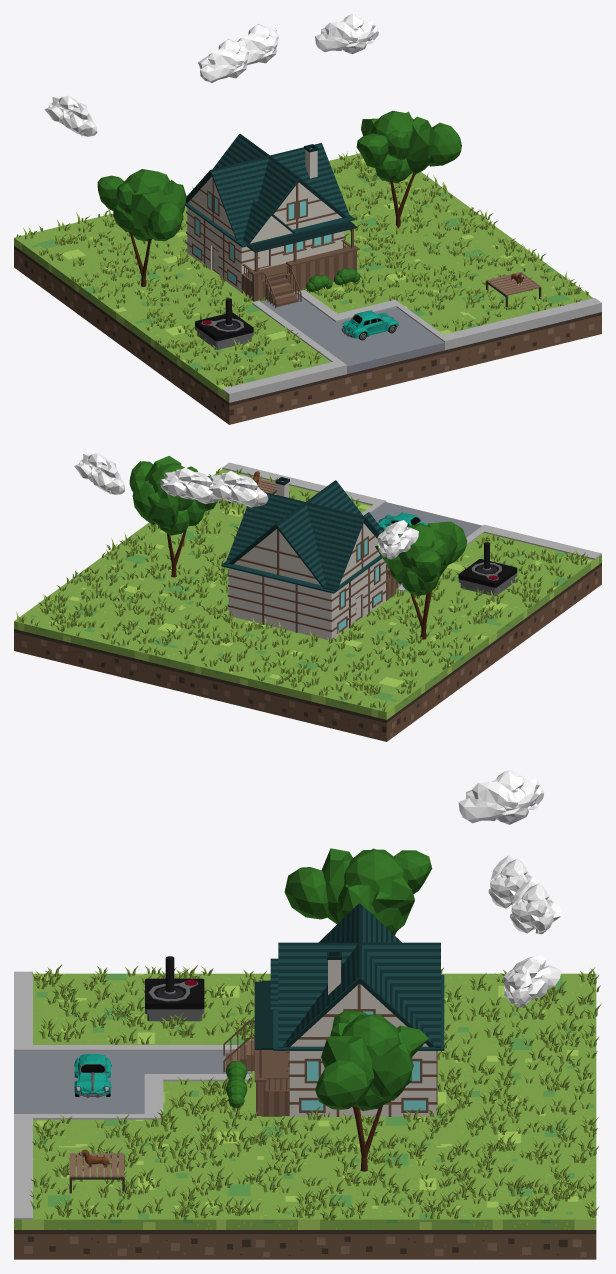
3 renders of one model, top to bottom at view 1: azimuth 30°, elevation 25°; view 2: azimuth 150°, elevation 25°; view 3: azimuth 270°, elevation 25°, orthographic. The views are drawn at different scales.
Parts seen in each view (by area): view 1: Cube.006, Cube.793, Circle.012_Grass_0.192, Cube.007, tree, tree.001, OBJRANDOM_JOYSTICK, VEHICLES_VOLKSWAGEN, Cube.009; view 2: Cube.006, Cube.793, Circle.012_Grass_0.192, Cube.007, tree.001, tree, OBJRANDOM_JOYSTICK, VEHICLES_VOLKSWAGEN; view 3: Cube.006, Circle.012_Grass_0.192, Cube.793, tree, Cube.007, tree.001, OBJRANDOM_JOYSTICK, VEHICLES_VOLKSWAGEN, Cube.009.
Boxes of the visible parts, x1=… form: Cube.006: x1=14, y1=153, x2=601, y2=424; Cube.793: x1=185, y1=134, x2=359, y2=307; Circle.012_Grass_0.192: x1=16, y1=150, x2=588, y2=386; Cube.007: x1=44, y1=14, x2=378, y2=136; tree: x1=356, y1=110, x2=461, y2=228; tree.001: x1=97, y1=169, x2=186, y2=286; OBJRANDOM_JOYSTICK: x1=195, y1=298, x2=253, y2=349; VEHICLES_VOLKSWAGEN: x1=341, y1=310, x2=398, y2=340; Cube.009: x1=486, y1=272, x2=541, y2=306; Cube.006: x1=14, y1=462, x2=601, y2=741; Cube.793: x1=221, y1=477, x2=398, y2=640; Circle.012_Grass_0.192: x1=16, y1=468, x2=588, y2=711; Cube.007: x1=74, y1=453, x2=418, y2=559; tree.001: x1=375, y1=521, x2=467, y2=639; tree: x1=129, y1=456, x2=216, y2=577; OBJRANDOM_JOYSTICK: x1=458, y1=542, x2=517, y2=596; VEHICLES_VOLKSWAGEN: x1=377, y1=512, x2=427, y2=530; Cube.006: x1=14, y1=971, x2=596, y2=1259; Circle.012_Grass_0.192: x1=29, y1=964, x2=601, y2=1220; Cube.793: x1=223, y1=903, x2=444, y2=1116; tree: x1=315, y1=1010, x2=428, y2=1171; Cube.007: x1=458, y1=770, x2=561, y2=1007; tree.001: x1=284, y1=848, x2=432, y2=935; OBJRANDOM_JOYSTICK: x1=145, y1=956, x2=204, y2=1021; VEHICLES_VOLKSWAGEN: x1=74, y1=1054, x2=111, y2=1097; Cube.009: x1=69, y1=1153, x2=124, y2=1193.
Bounding box in the file's own units: 4071 × 2175 × 4040.
33 materials, 4 textured.
